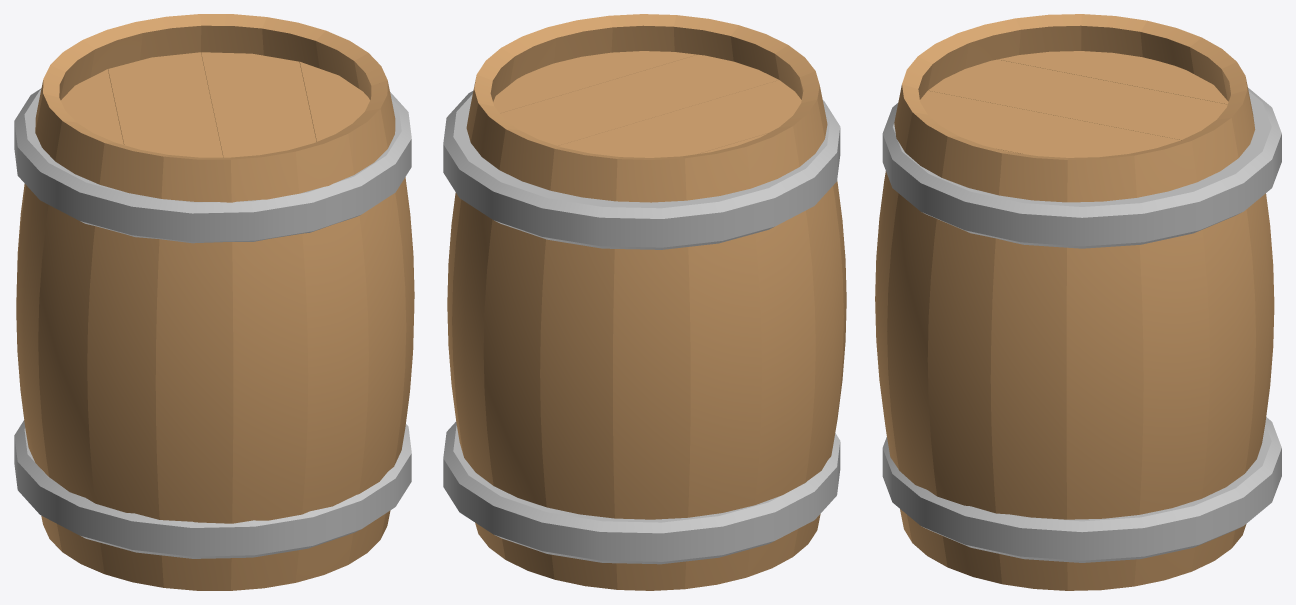
The model's file is barrildeff.fbx.
The picture shows the model from 3 angles, left to right: view 1: azimuth 30°, elevation 25°; view 2: azimuth 150°, elevation 25°; view 3: azimuth 270°, elevation 25°; orthographic projection.
Parts seen in each view (by area): view 1: Barril; view 2: Barril; view 3: Barril.
Boxes of the visible parts, left/top/right/bottom form: Barril: left=14, top=14, right=414, bottom=590; Barril: left=443, top=14, right=846, bottom=590; Barril: left=875, top=14, right=1281, bottom=590.
Bounding box in the file's own units: 4268 × 5061 × 4330.
